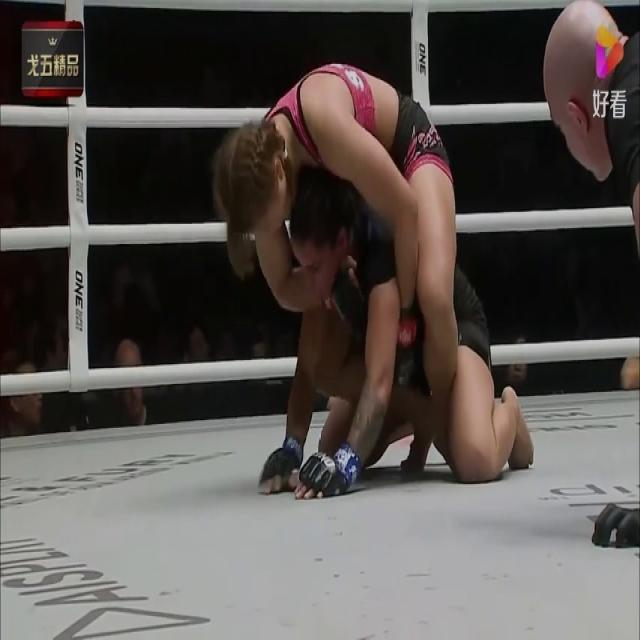fight: (204, 49, 535, 503)
non-fight: (532, 0, 639, 401)
